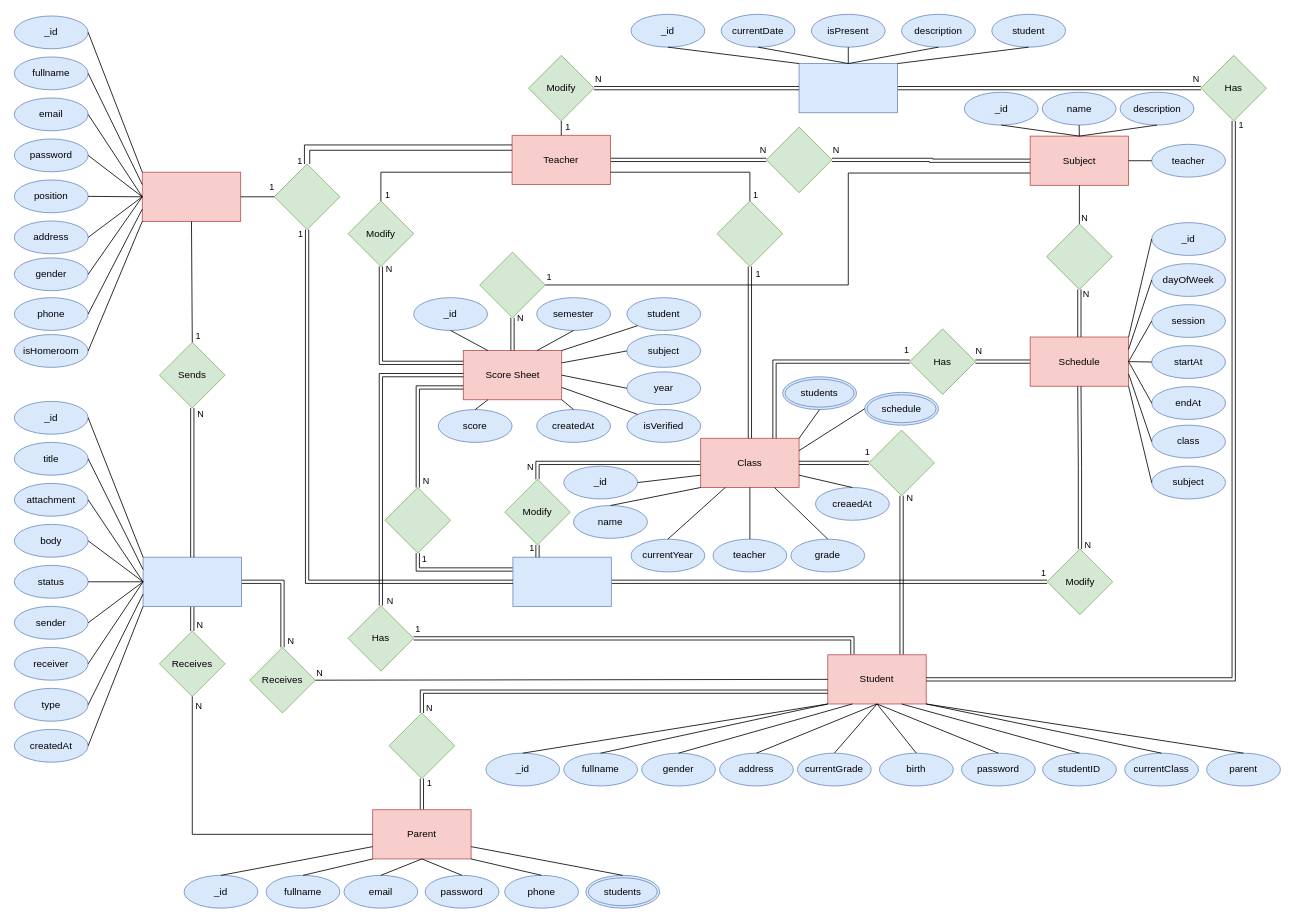
This 1295x923 diagram has some shape labels left out. The box of each missing label's shape, as (x1, y1, x2, y2) in pixels:
Announcement: (142, 556, 241, 606)
Attendance: (798, 63, 897, 113)
Belong: (479, 251, 545, 318)
Enroll: (868, 429, 934, 496)
Is A: (273, 163, 340, 230)
Manages: (388, 712, 455, 779)
Organizes: (1046, 223, 1112, 289)
Principal: (512, 556, 611, 606)
School_Staff: (141, 171, 241, 221)
Takes: (716, 200, 783, 266)
Teaches: (765, 126, 832, 193)
Verify: (384, 487, 451, 553)
